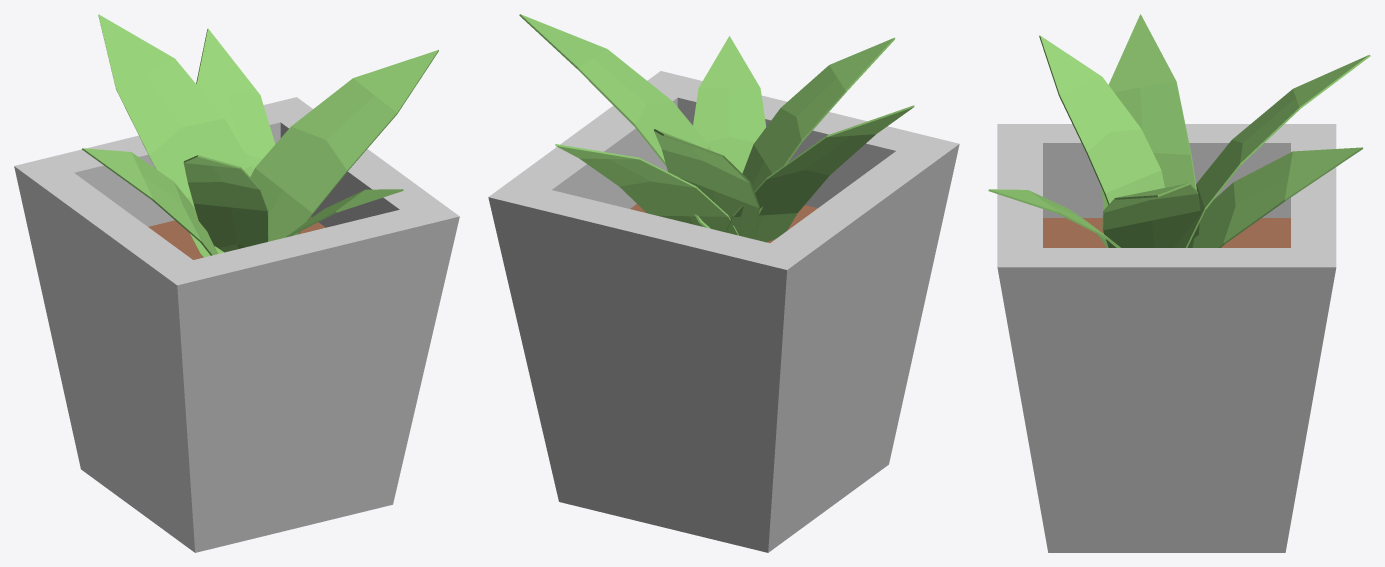
Rendered from Plant_Pot.fbx.
3 views of the same model, side by side, from view 1: azimuth 30°, elevation 25°; view 2: azimuth 150°, elevation 25°; view 3: azimuth 270°, elevation 25° (orthographic). The views are drawn at different scales.
Parts seen in each view (by area): view 1: Plant_Pot; view 2: Plant_Pot; view 3: Plant_Pot.
Part boxes in pixels (x1=…): Plant_Pot: x1=14, y1=14, x2=459, y2=552; Plant_Pot: x1=488, y1=14, x2=959, y2=552; Plant_Pot: x1=988, y1=14, x2=1370, y2=552.
Size of the model in its own units: 0.0621 by 0.0668 by 0.0541.
